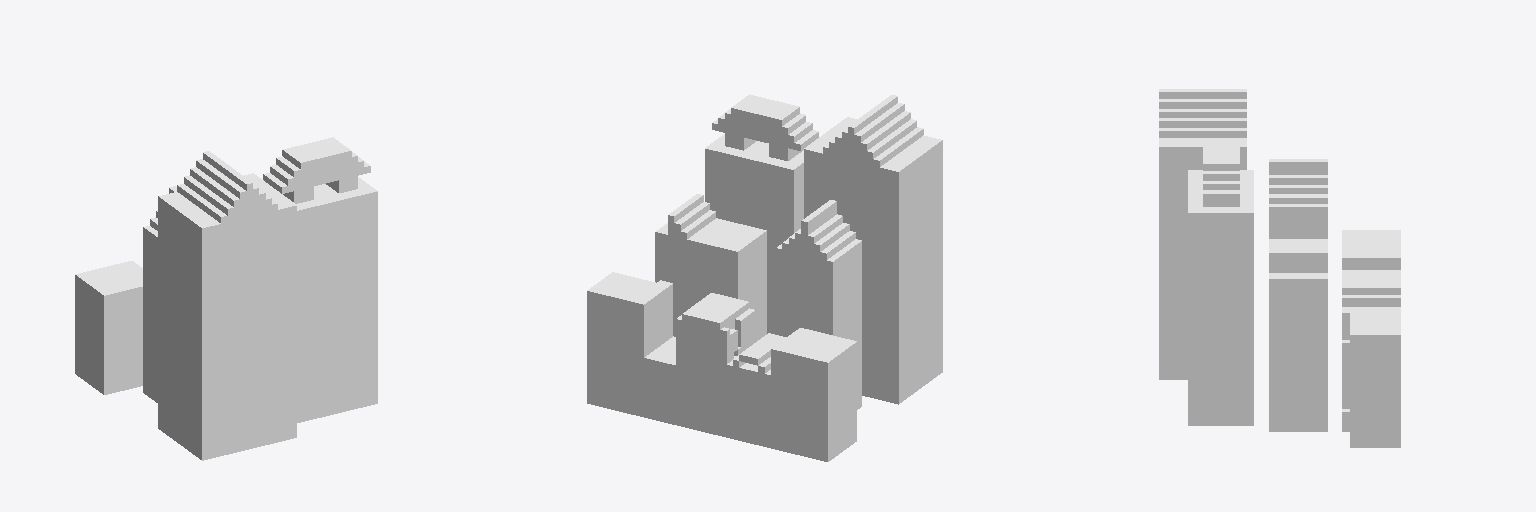
File: gedung.obj
The picture shows the model from 3 angles: view 1: azimuth 30°, elevation 25°; view 2: azimuth 150°, elevation 25°; view 3: azimuth 270°, elevation 25°; orthographic projection.
Visible parts, largest first — view 1: object 1; view 2: object 1; view 3: object 1.
Boxes of the visible parts, box(x1,y1,x2,y2) form: object 1: box(75, 137, 377, 460); object 1: box(587, 94, 942, 461); object 1: box(1159, 89, 1400, 447).
Size of the model in its own units: 3.8 by 4 by 3.3.